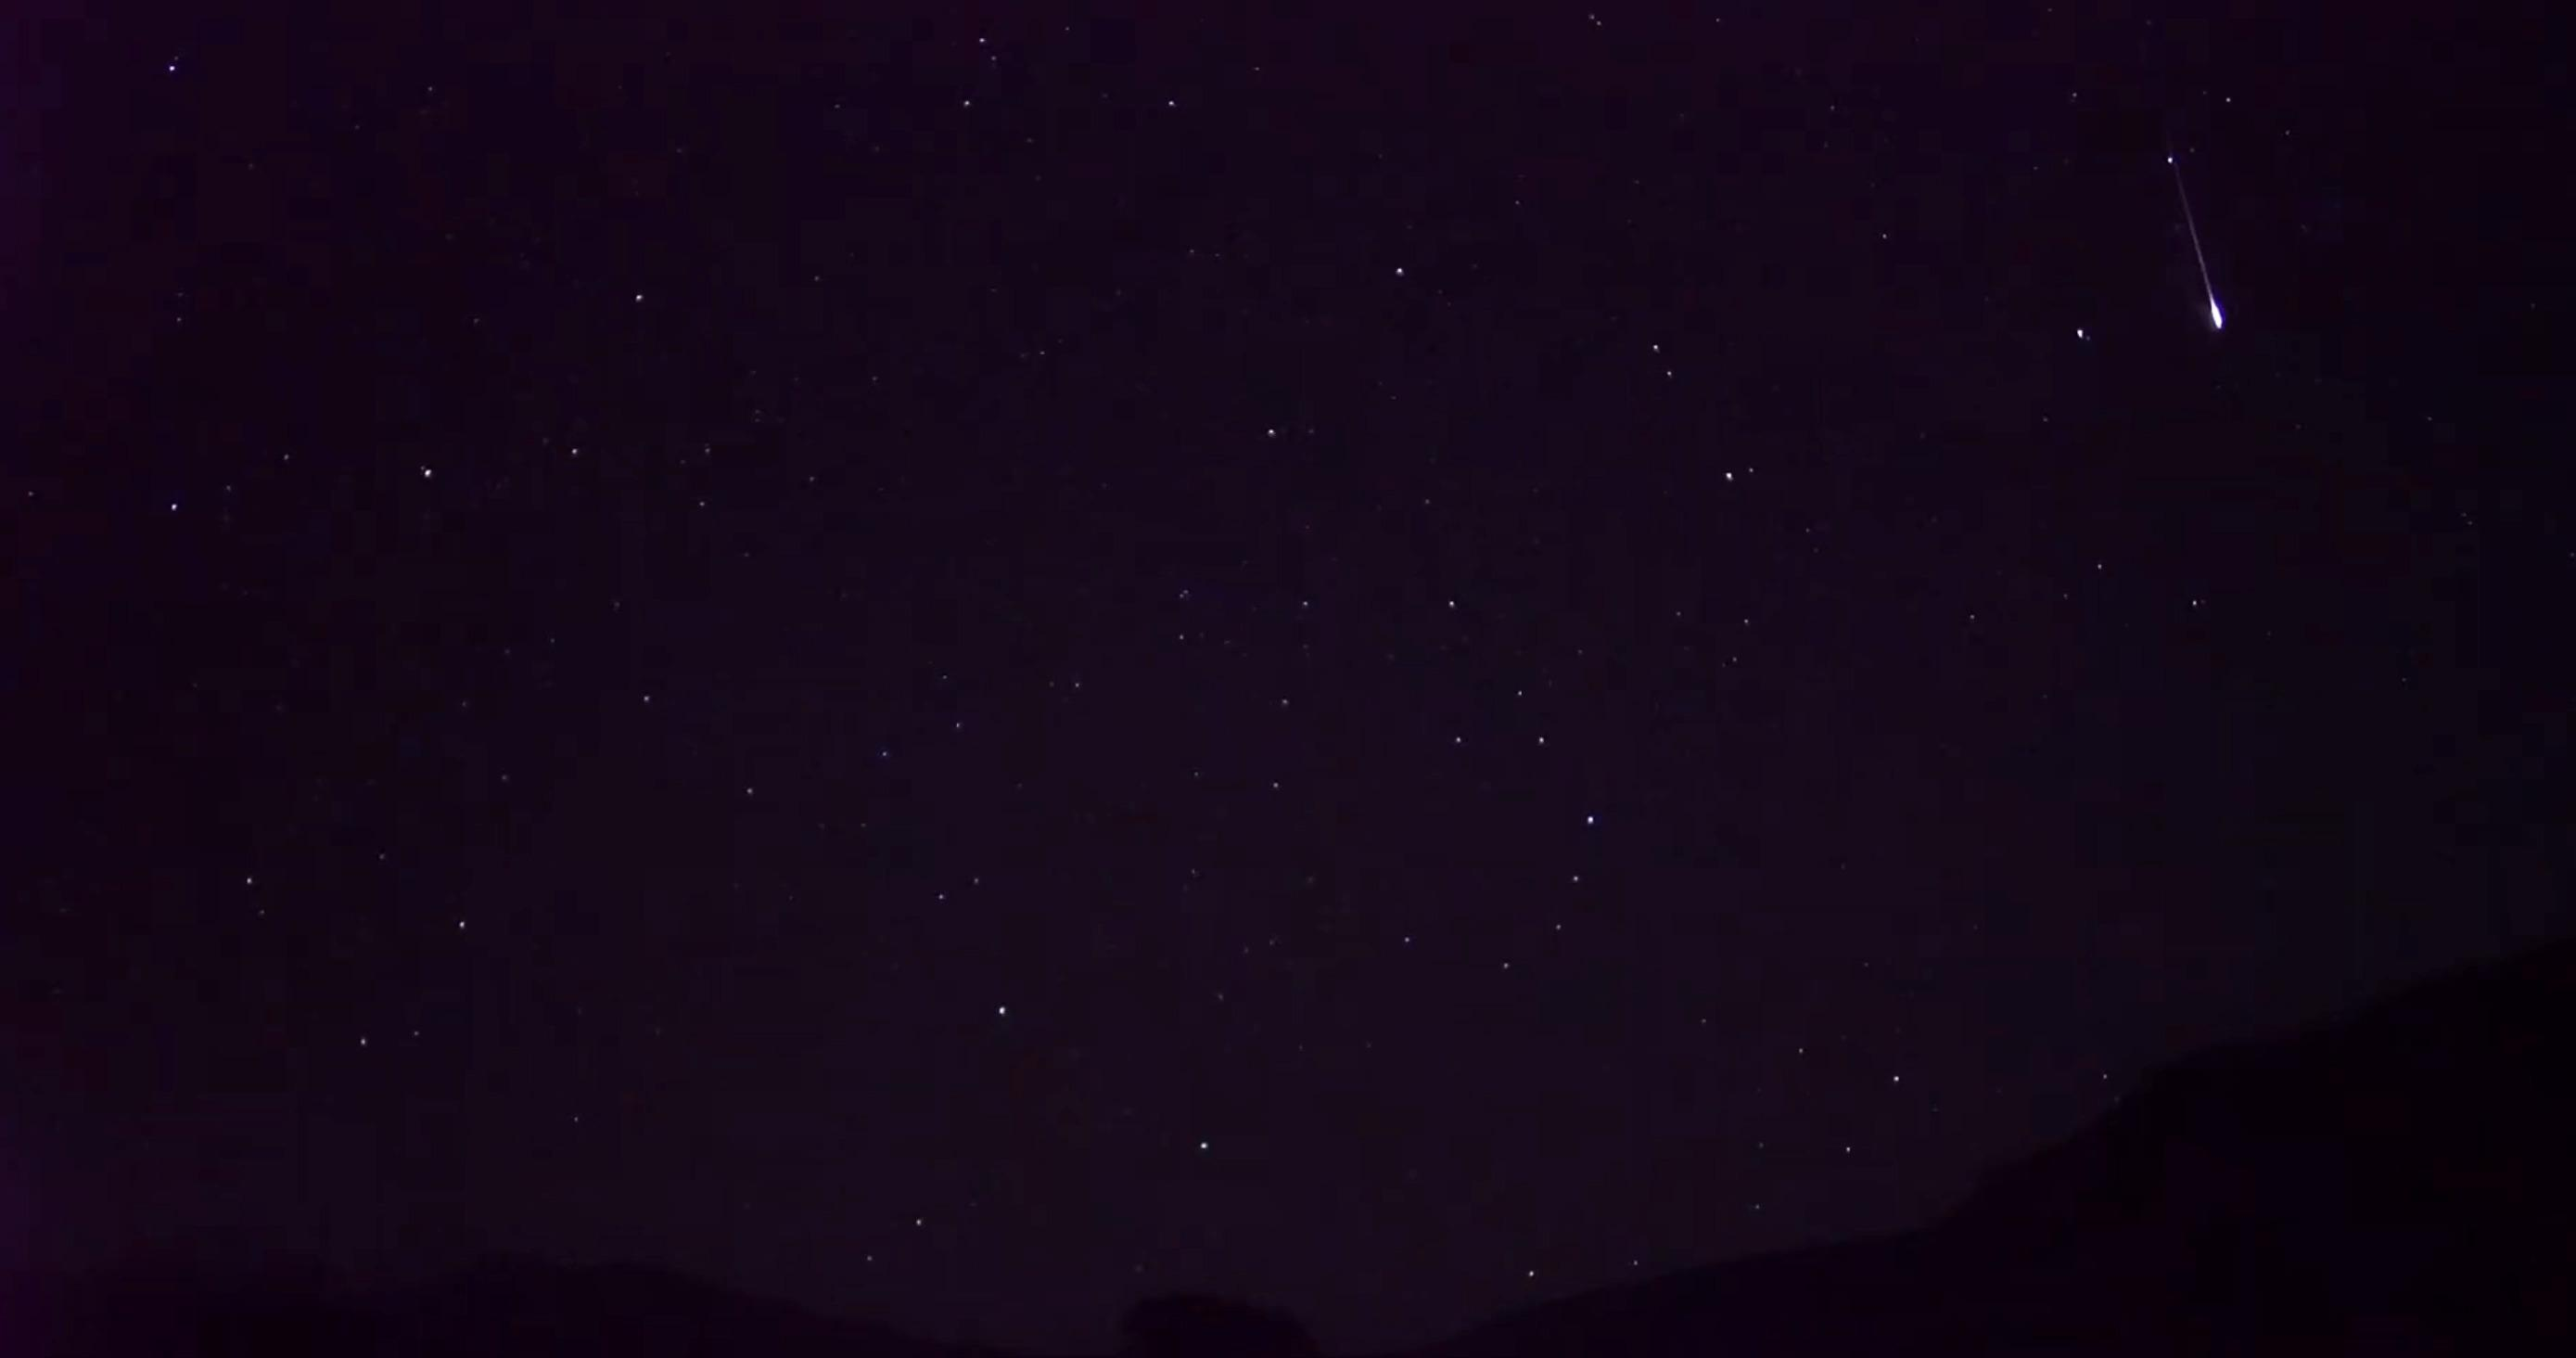meteorite: (2118, 128, 2297, 351)
